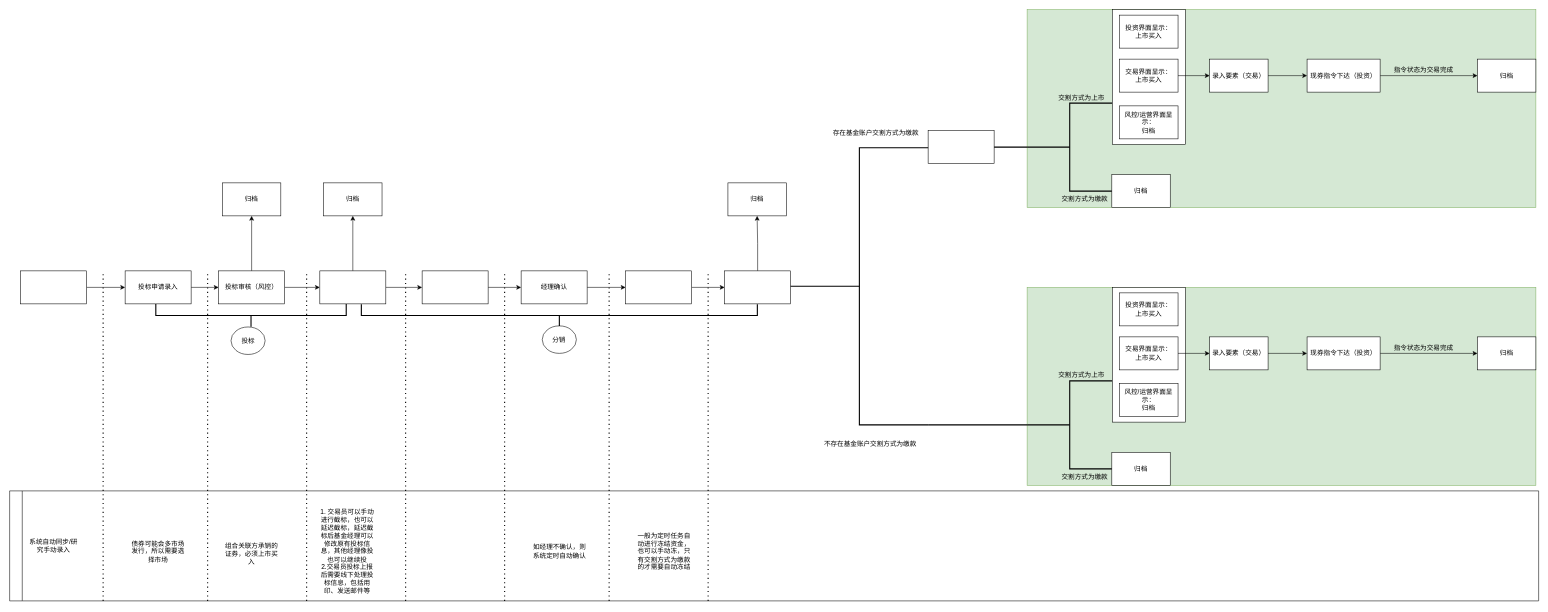
The diagram is 1548 pixels wide and 612 high, and some of its shapes have lost their labels. Each missing label, with the box of its shape:
中标录入（交易）: (422, 270, 488, 304)
冻结头寸（运营）: (625, 270, 692, 304)
分销审核（风控）: (724, 270, 791, 304)
发行债券信息收集: (20, 270, 87, 304)
投标上报（交易）: (319, 270, 386, 304)
流程节点说明: (9, 490, 1539, 601)
缴款确认（运营）: (928, 130, 994, 164)
